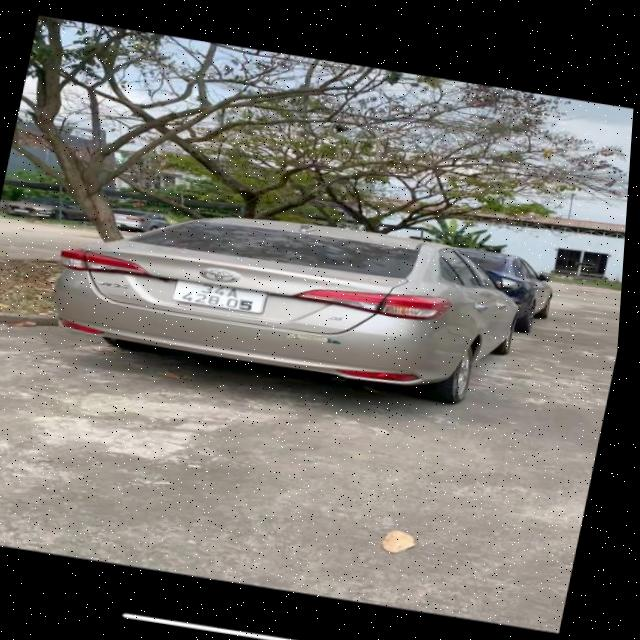car: (46, 178, 544, 427)
plate: (163, 268, 278, 326)
